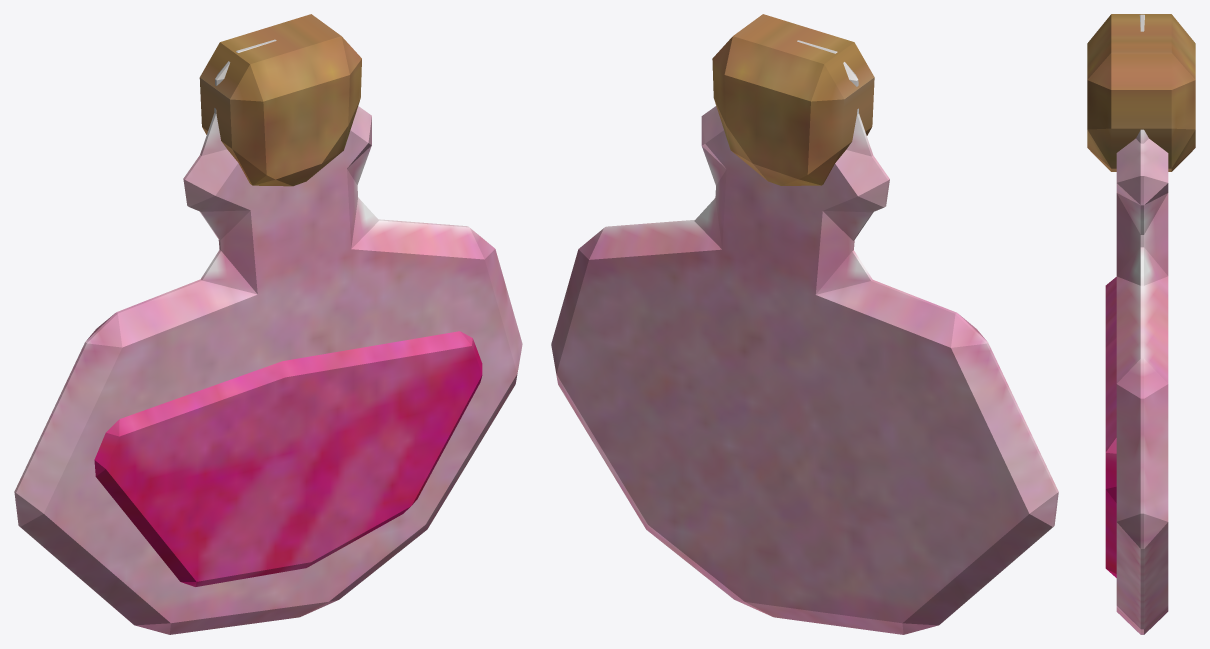
The model's file is pinkpotion.fbx.
3 renders of one model, left to right at view 1: azimuth 30°, elevation 25°; view 2: azimuth 150°, elevation 25°; view 3: azimuth 270°, elevation 25°, orthographic.
Parts seen in each view (by area): view 1: rosa, drink.pink, korkble2; view 2: rosa, korkble2; view 3: rosa, korkble2, drink.pink.
Boxes of the visible parts, left/top/right/bottom form: rosa: left=14, top=39, right=522, bottom=634; drink.pink: left=94, top=331, right=482, bottom=586; korkble2: left=199, top=14, right=361, bottom=186; rosa: left=551, top=40, right=1058, bottom=634; korkble2: left=712, top=14, right=874, bottom=185; rosa: left=1116, top=14, right=1168, bottom=634; korkble2: left=1087, top=14, right=1195, bottom=171; drink.pink: left=1105, top=277, right=1116, bottom=577.
Size of the model in its own units: 55.66 by 61.47 by 10.32.
